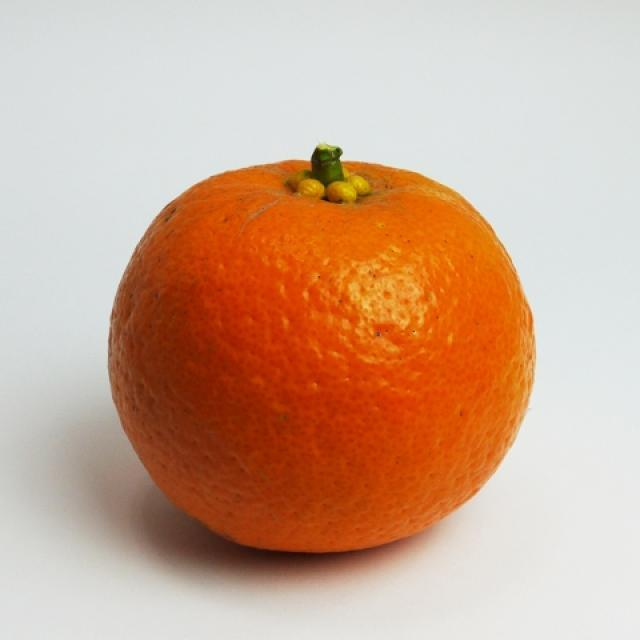Orange: (100, 144, 540, 558)
